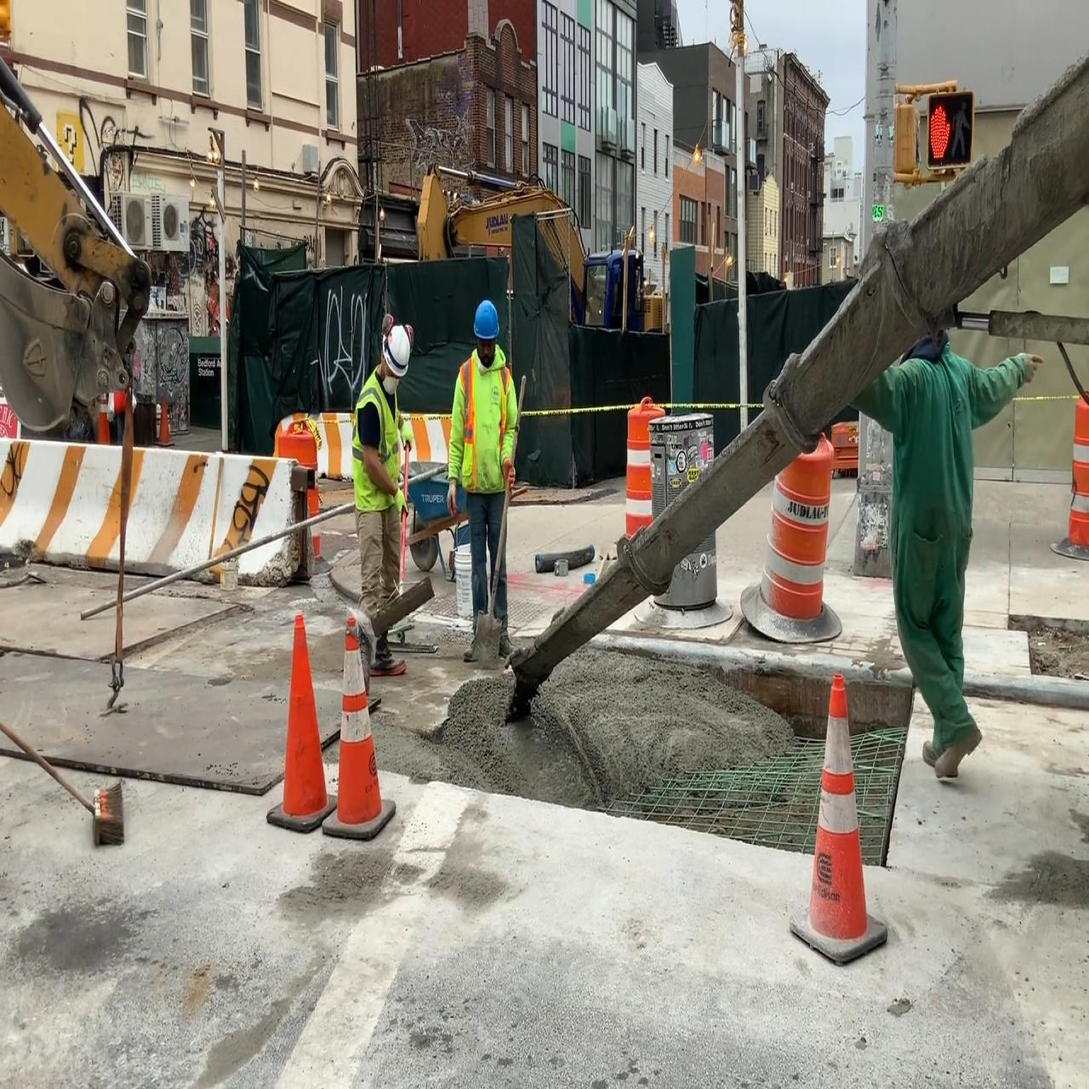NO_Safety_Vest: (893, 355, 975, 554)
Person: (870, 284, 1041, 779), (439, 284, 529, 681), (342, 307, 425, 688)
Safety_Vest: (458, 350, 512, 499), (354, 371, 403, 520)
